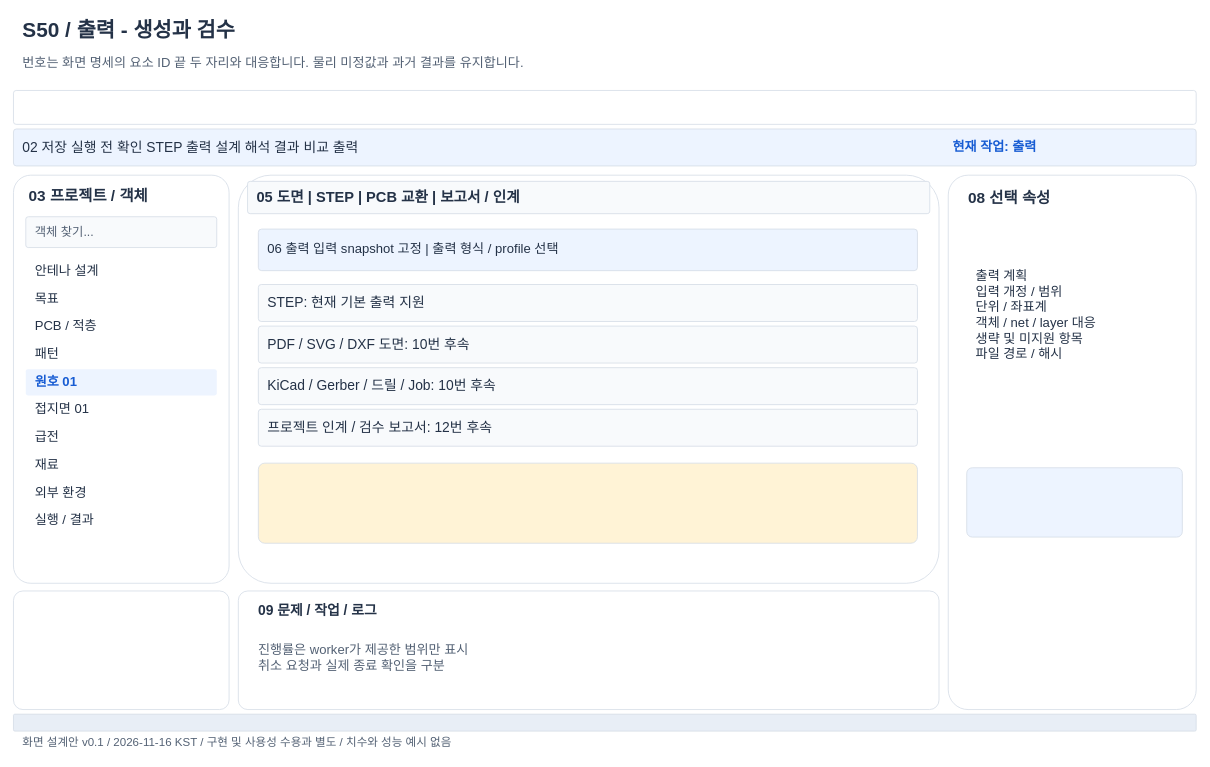
Image size: 1210x767. Some labels were removed from this diagram. The centre of each missing label's shape, as x and y in pixels:
"01 TraceWave Studio / 안테나 설계 / 저장 필요" belongs at pixel 604 107.
"04 레이어 / 표시 표시 활성 층 [x] Top Copper [x] Substrate" belongs at pixel 121 650.
"07 미리보기 -> 생성 -> 파일 확인 -> 지원 profile 검수 생성 성공을 RF / 제조 / 독립 교환 합격으로 표시하지 않습니다." belongs at pixel 587 502.
"10 단위 mm | 활성 층 Top Copper | 스냅 끔 | worker 상태 별도 표시" belongs at pixel 604 722.
"독립 검수: 미평가 현재 STEP 상태: generated_unverified" belongs at pixel 1074 502.
